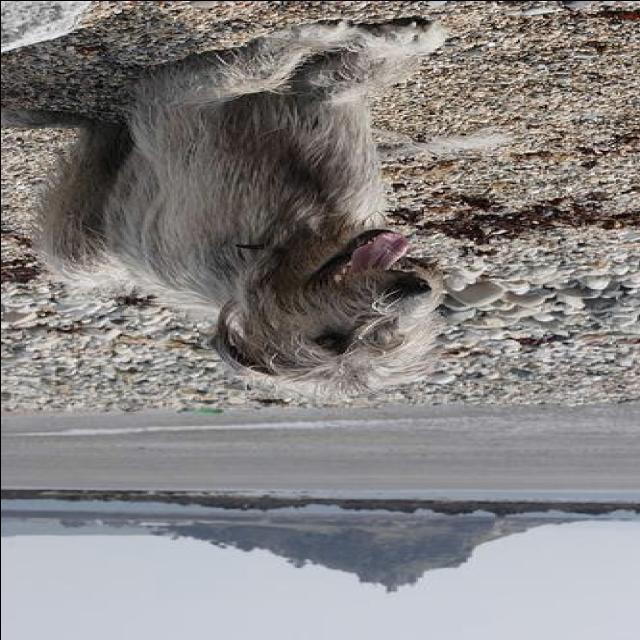irish_wolfhound: (32, 15, 444, 407)
